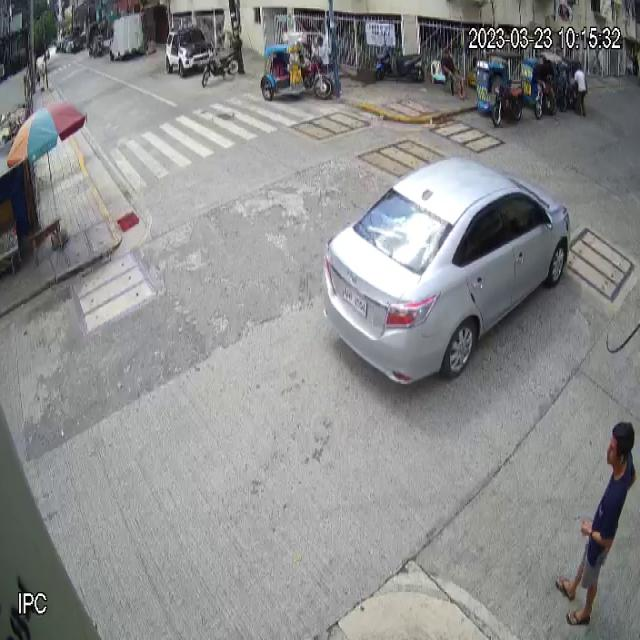Car: (319, 154, 573, 390)
Tricycle: (260, 31, 332, 102), (476, 51, 525, 128)
